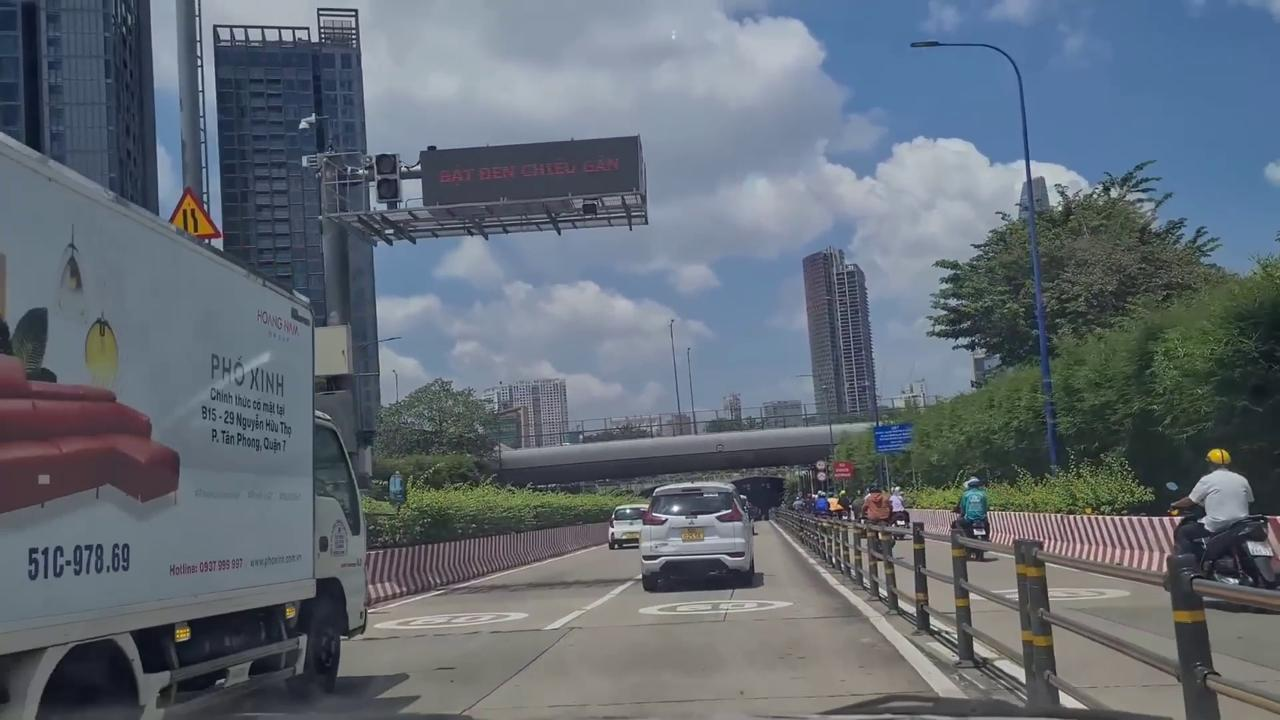Đuờng hẹp: (162, 184, 226, 243)
